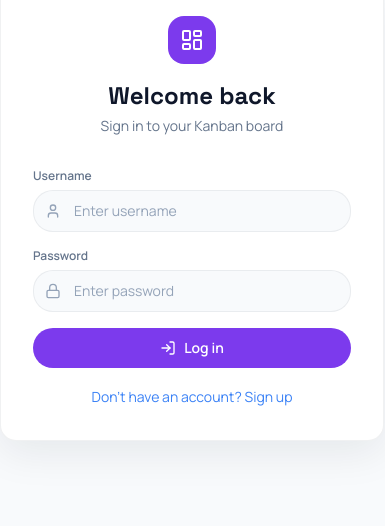
LoginForm › shows error for short password in register mode
Click the button "Don't have an account? Sign up" at (192, 397), box [92,387,292,407]
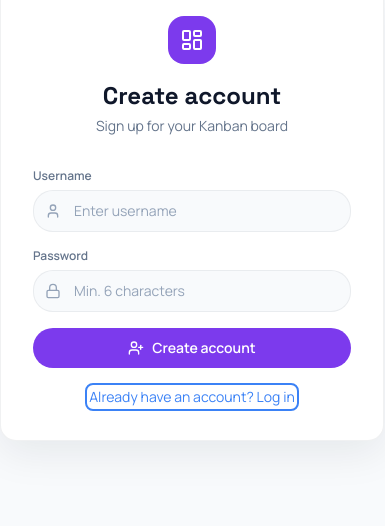
Type "newuser" into the field labelled "Username" at (192, 211), box [33,190,351,232]
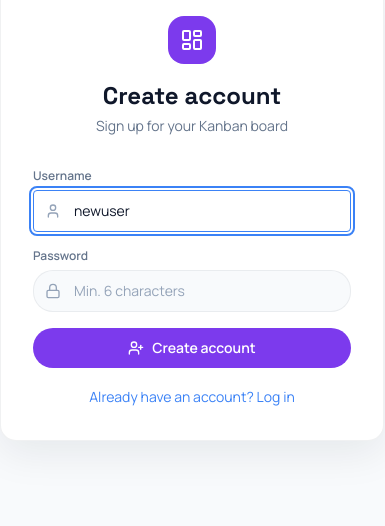
Type "12345" into the password field labelled "Password" at (192, 291), box [33,270,351,312]
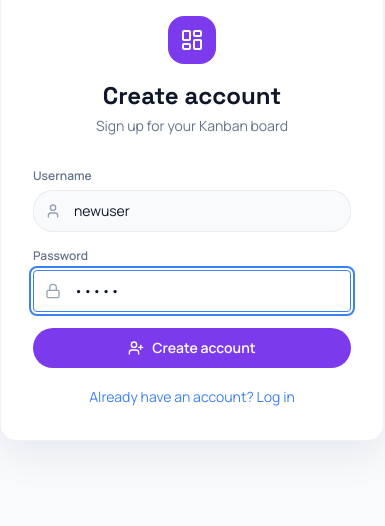
Click the button "Create account" at (192, 348), box [33,328,351,368]
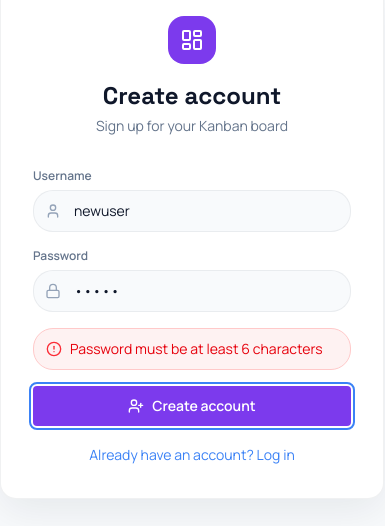
Now the text "Password must be at least 6 characters" is shown, box [70,339,323,359]
